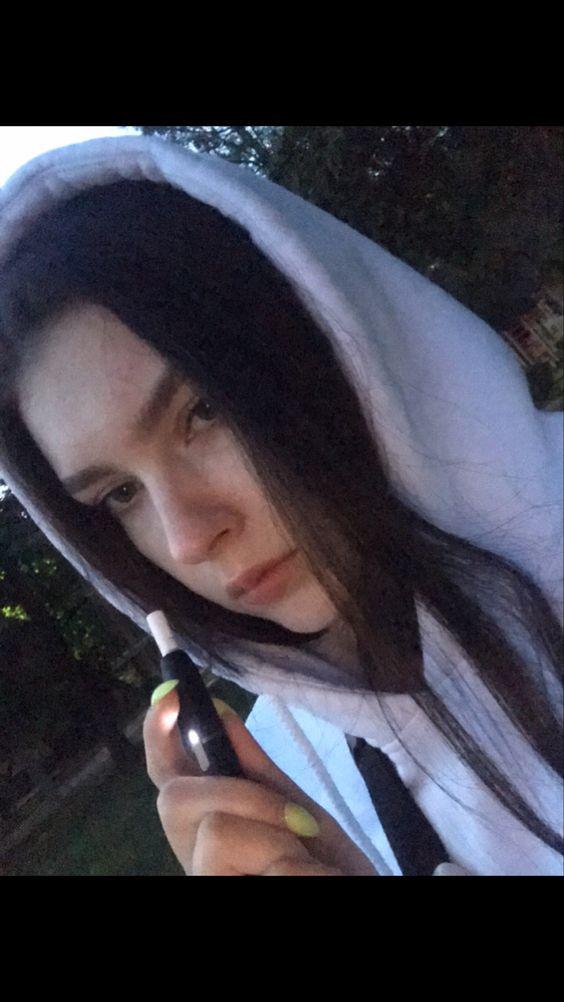iqos: (146, 610, 247, 779)
